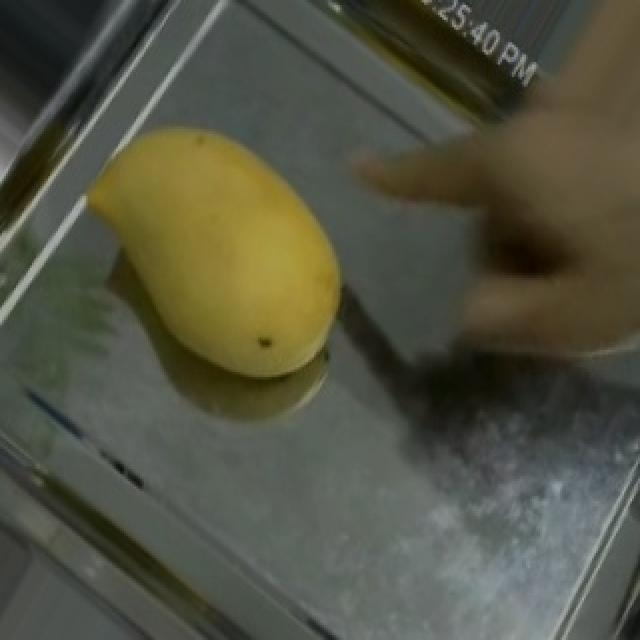fruit: (58, 74, 406, 437), (446, 2, 640, 364)
